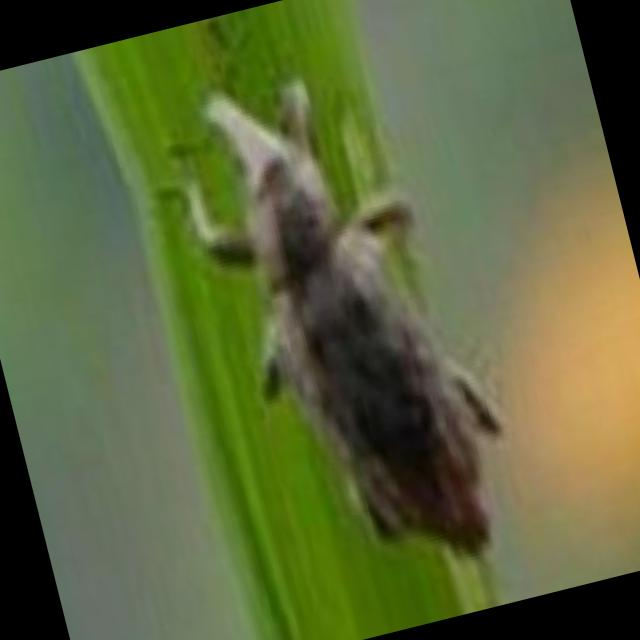rice-bug: (175, 39, 532, 607)
